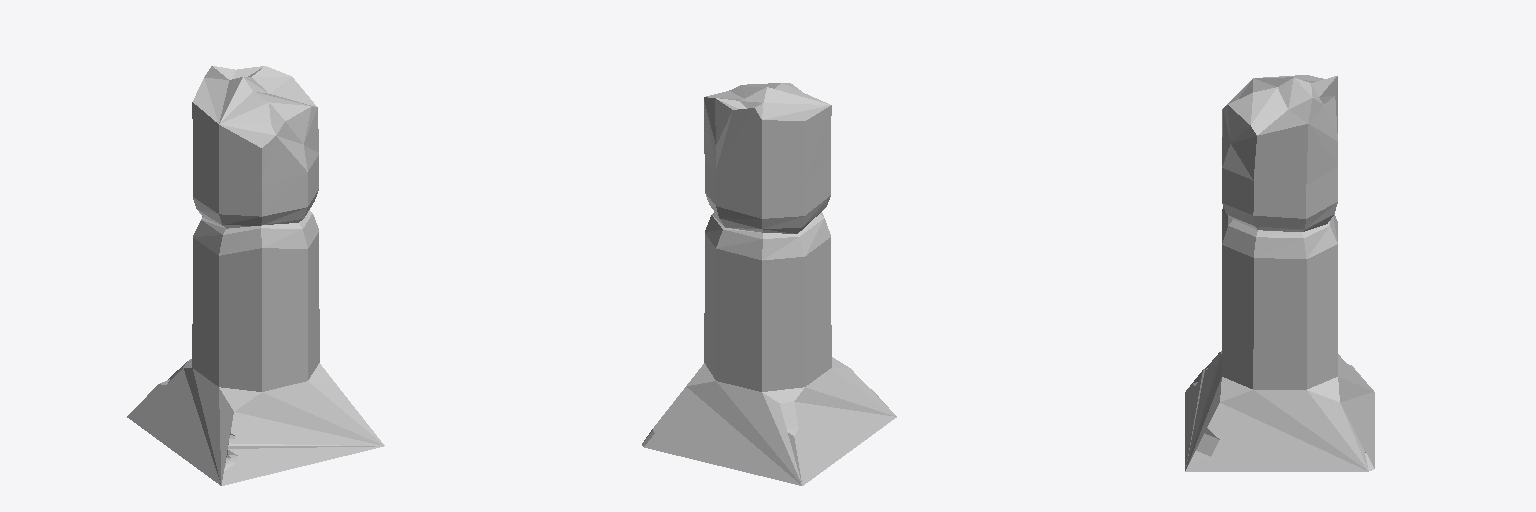
Rendered from pillar_brokenBad.obj.
3 views of the same model, side by side, from view 1: azimuth 30°, elevation 25°; view 2: azimuth 150°, elevation 25°; view 3: azimuth 270°, elevation 25° (orthographic).
Parts seen in each view (by area): view 1: Cube; view 2: Cube; view 3: Cube.
Boxes of the visible parts, <box> form: Cube: <box>127,66,384,485</box>; Cube: <box>642,83,896,485</box>; Cube: <box>1185,75,1374,471</box>.
Bounding box in the file's own units: 3.6 × 7.38 × 3.6.